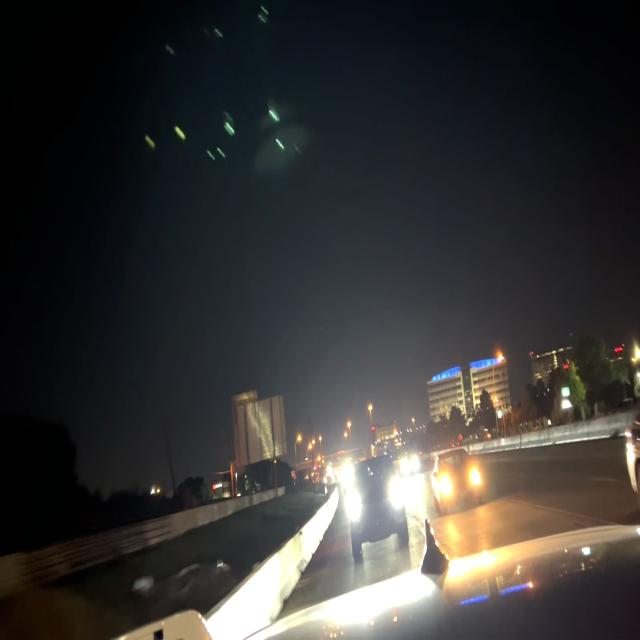back-of-sign: (232, 387, 289, 469)
